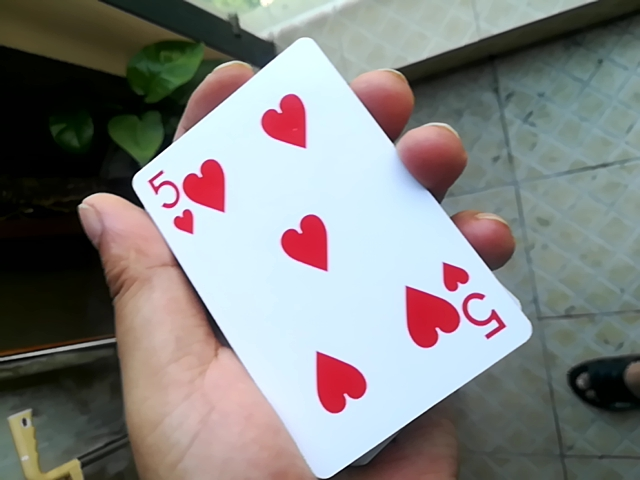hx 5: (113, 36, 528, 476)
